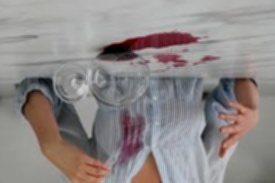wine: (111, 109, 147, 164)
